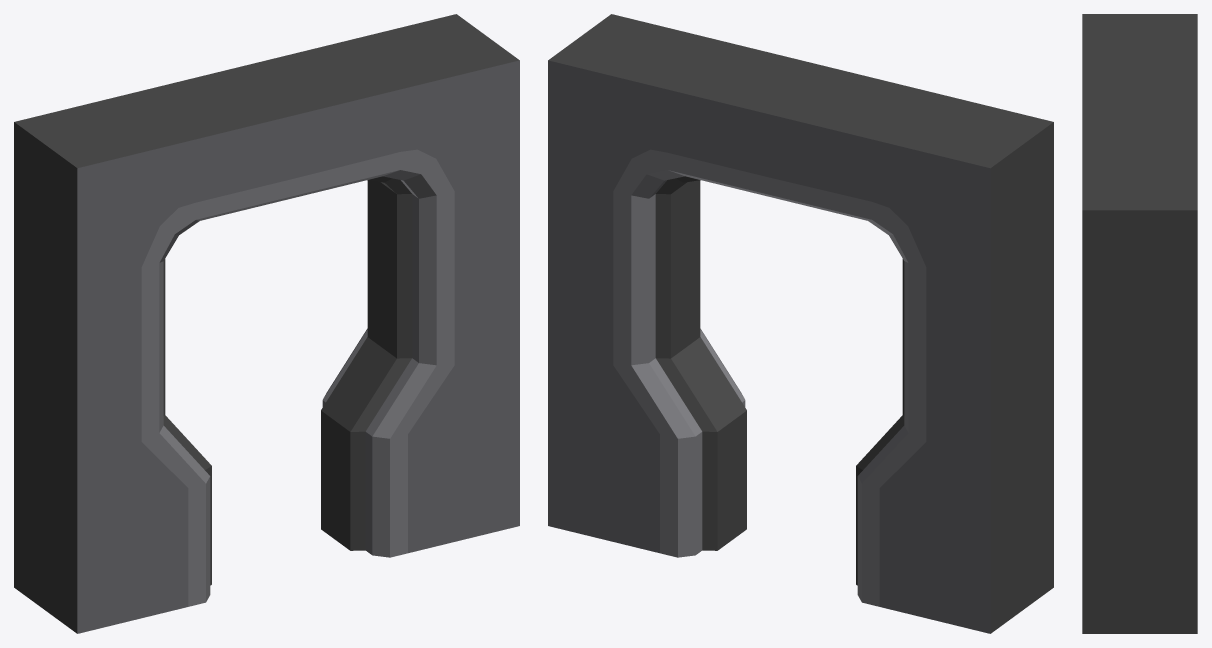
The model's file is SM_Bld_Corridor_Single_Arch_01.glb.
3 renders of one model, left to right at view 1: azimuth 30°, elevation 25°; view 2: azimuth 150°, elevation 25°; view 3: azimuth 270°, elevation 25°, orthographic. The views are drawn at different scales.
Visible parts, largest first — view 1: SM_Bld_Corridor_Single_Arch_01; view 2: SM_Bld_Corridor_Single_Arch_01; view 3: SM_Bld_Corridor_Single_Arch_01.
Part boxes in pixels (<box>): SM_Bld_Corridor_Single_Arch_01: <box>14,14,519,633</box>; SM_Bld_Corridor_Single_Arch_01: <box>548,14,1053,633</box>; SM_Bld_Corridor_Single_Arch_01: <box>1082,14,1197,633</box>.
Bounding box in the file's own units: 4.91 × 4.94 × 1.22.
Materials: 1 (1 with a texture image).
